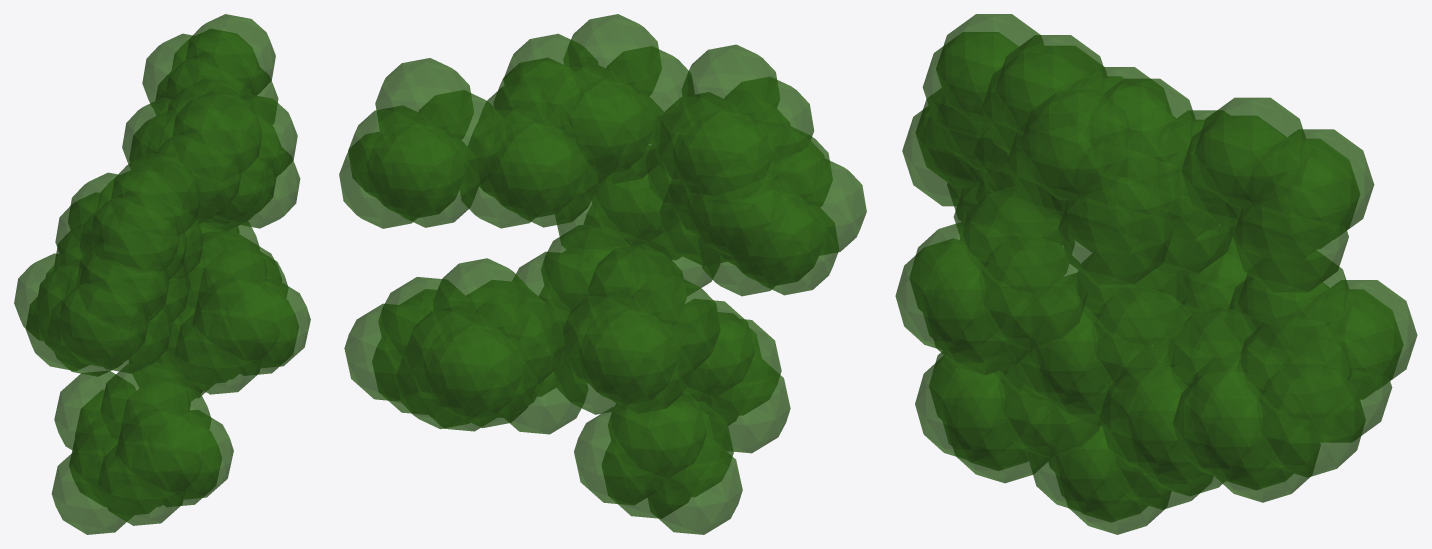
The model's file is leaves 1.fbx.
The picture shows the model from 3 angles, left to right: view 1: azimuth 30°, elevation 25°; view 2: azimuth 150°, elevation 25°; view 3: azimuth 270°, elevation 25°; orthographic projection. The views are drawn at different scales.
Visible parts, largest first — view 1: leaves; view 2: leaves; view 3: leaves.
Part boxes in pixels (bbox=[...]): leaves: bbox=[14, 14, 310, 534]; leaves: bbox=[339, 14, 866, 534]; leaves: bbox=[895, 14, 1417, 534].
Bounding box in the file's own units: 867 × 1055 × 926.
